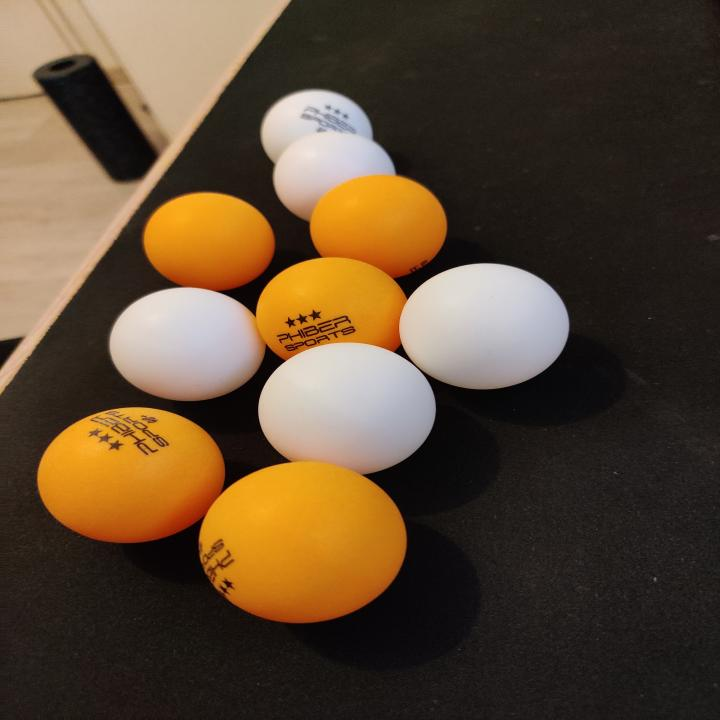orange: (197, 461, 409, 625), (35, 409, 226, 545), (255, 257, 410, 363), (310, 174, 449, 276), (141, 192, 275, 291)
white: (257, 342, 440, 474), (398, 261, 572, 391), (107, 286, 269, 404), (273, 132, 398, 222), (260, 87, 376, 168)
